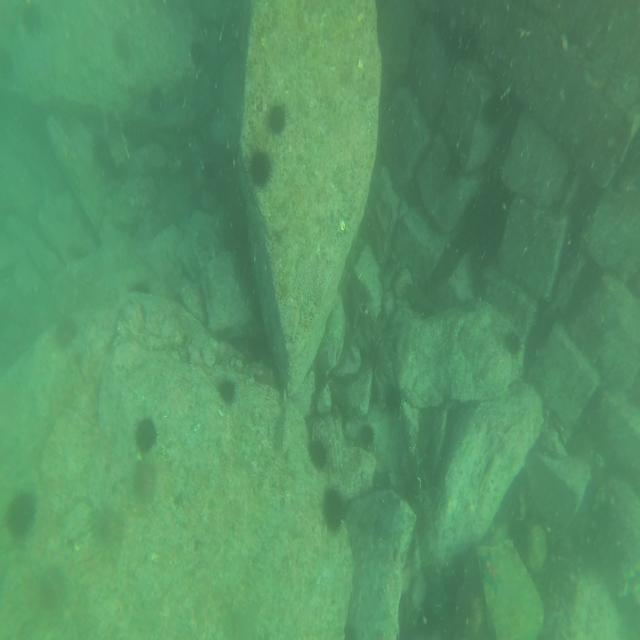echinus: (3, 486, 36, 534), (249, 148, 273, 194), (480, 95, 509, 132), (322, 485, 345, 531), (52, 313, 79, 347), (135, 419, 160, 452), (268, 99, 287, 140), (188, 33, 208, 71), (308, 436, 328, 472), (146, 80, 166, 112), (384, 386, 406, 413), (506, 325, 524, 358), (449, 144, 462, 188), (126, 281, 154, 301), (362, 420, 376, 454), (220, 374, 236, 403)
starfish: (479, 550, 505, 593)
